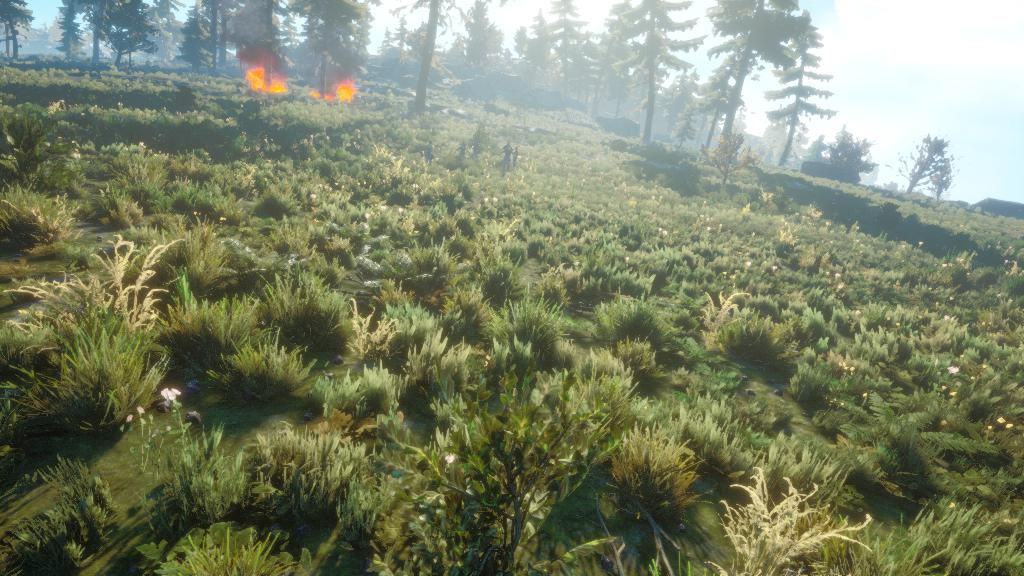Fire: (241, 55, 294, 95), (312, 78, 360, 106)
human: (502, 138, 531, 180), (418, 137, 442, 169), (456, 136, 475, 172)
smoke: (310, 22, 360, 78), (229, 13, 285, 62)
